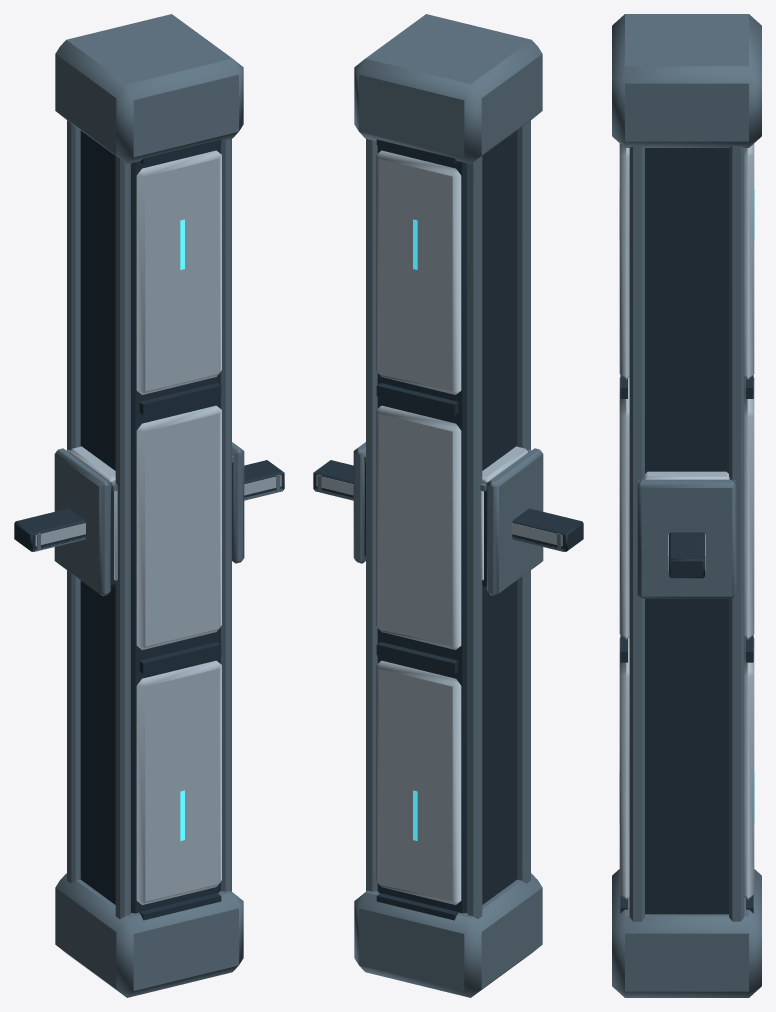
Rendered from kit-low-v1.glb.
3 renders of one model, left to right at view 1: azimuth 30°, elevation 25°; view 2: azimuth 150°, elevation 25°; view 3: azimuth 270°, elevation 25°, orthographic.
Visible parts, largest first — view 1: backdrop-spire_alloy, backdrop-spire_ceramic, backdrop-spire_graphite, service-pod_alloy, ring-beam_graphite, service-pod_ceramic, ring-beam_ceramic; view 2: backdrop-spire_alloy, backdrop-spire_ceramic, backdrop-spire_graphite, service-pod_alloy, ring-beam_graphite, service-pod_ceramic, ring-beam_ceramic; view 3: backdrop-spire_alloy, backdrop-spire_graphite, backdrop-spire_ceramic, service-pod_alloy, ring-beam_graphite, service-pod_ceramic.
Boxes of the visible parts, x1,y1,x2,y2 form: backdrop-spire_alloy: (55,14,243,997); backdrop-spire_ceramic: (136,150,221,904); backdrop-spire_graphite: (80,130,221,920); service-pod_alloy: (54,442,244,595); ring-beam_graphite: (14,460,284,551); service-pod_ceramic: (69,446,117,580); ring-beam_ceramic: (35,475,281,546); backdrop-spire_alloy: (354,14,542,997); backdrop-spire_ceramic: (376,150,461,904); backdrop-spire_graphite: (376,130,517,920); service-pod_alloy: (353,442,543,595); ring-beam_graphite: (313,460,583,551); service-pod_ceramic: (480,446,528,580); ring-beam_ceramic: (316,475,562,546); backdrop-spire_alloy: (612,14,761,997); backdrop-spire_graphite: (620,148,753,914); backdrop-spire_ceramic: (619,143,754,899); service-pod_alloy: (637,479,736,598); ring-beam_graphite: (669,532,704,578); service-pod_ceramic: (644,471,729,479).
Bounding box in the file's own units: 7 × 24 × 3.5.
